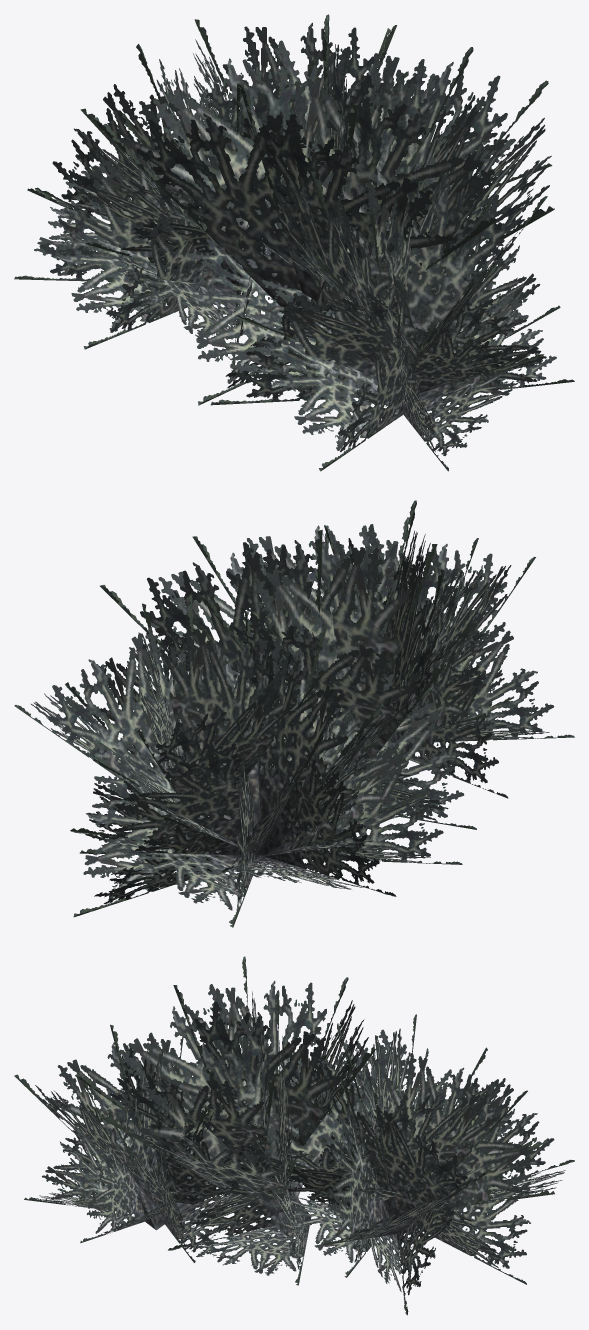
The model's file is C4SNTHORNS.obj.
3 renders of one model, top to bottom at view 1: azimuth 30°, elevation 25°; view 2: azimuth 150°, elevation 25°; view 3: azimuth 270°, elevation 25°, orthographic. The views are drawn at different scales.
Visible parts, largest first — view 1: Node 0; view 2: Node 0; view 3: Node 0.
Boxes of the visible parts, x1,y1,x2,y2 form: Node 0: [14, 14, 574, 471]; Node 0: [14, 500, 574, 927]; Node 0: [14, 956, 574, 1315].
Bounding box in the file's own units: 2.8 × 2.02 × 3.98.
Materials: 1 (1 with a texture image).
